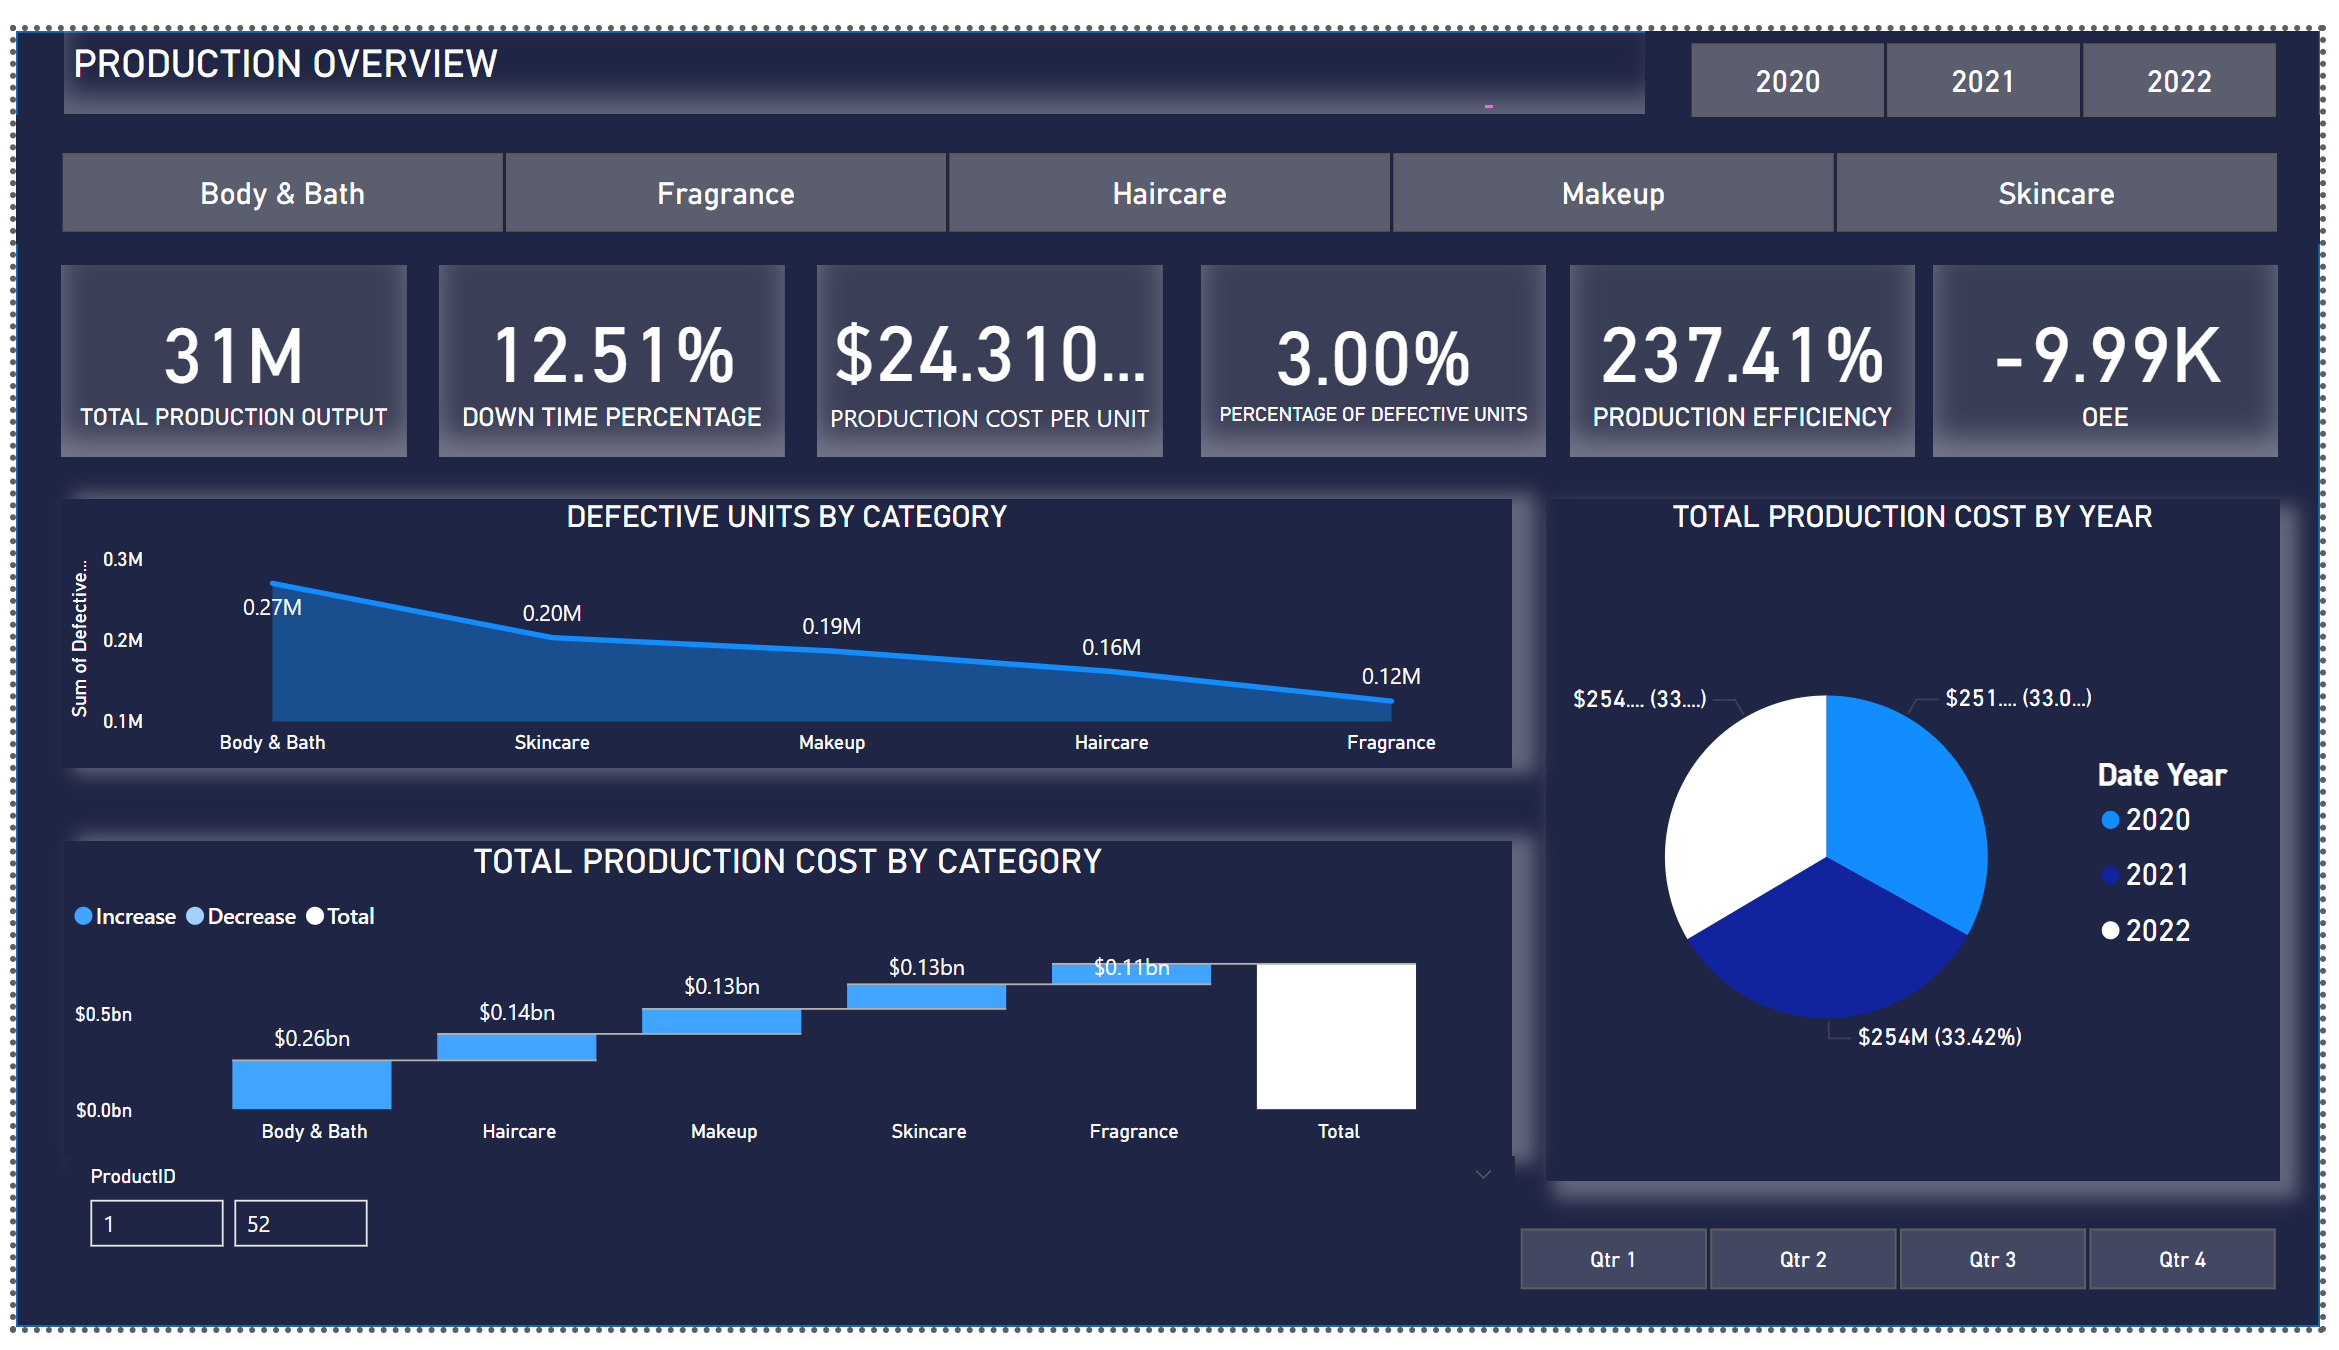

What the dashboard file says about the page in this screenshot:
{"tool":"powerbi","page":{"name":"Production Overview","canvas":[1280,720],"ordinal":0},"visuals":[{"type":"shape","box":[0,0,1280.2,720],"z":0},{"type":"card","fields":{"Values":["production_data.TOTAL PRODUCTION OUTPUT"]},"box":[25.4,129.6,192,106.6],"z":1000},{"type":"card","fields":{"Values":["production_data.Downtime_Percentage"]},"box":[235.7,129.6,192,106.6],"z":2000},{"type":"card","fields":{"Values":["production_data.Production_Cost_Per_Unit"]},"box":[444.5,129.6,192,106.6],"z":3000},{"type":"card","fields":{"Values":["production_data.Percentage_of_Defective_Products"]},"box":[658.1,129.6,191.5,106.6],"z":4000},{"type":"waterfallChart","title":"TOTAL PRODUCTION COST BY CATEGORY","fields":{"Category":["Products.Category"],"Y":["production_data.Total_Production_Cost"]},"box":[26.2,449.5,804.4,176],"z":5000},{"type":"pieChart","title":"TOTAL PRODUCTION COST BY YEAR","fields":{"Category":["production_data.Date.Variation.Date Hierarchy.Year"],"Y":["production_data.Total_Production_Cost"]},"box":[849.6,259.2,407.5,378.7],"z":6000},{"type":"slicer","fields":{"Values":["Products.Category"]},"box":[0,46.1,1280,71.8],"z":7000},{"type":"areaChart","title":"DEFECTIVE UNITS BY CATEGORY","fields":{"Category":["Products.Category"],"Y":["Sum(production_data.DefectiveUnits)"]},"box":[24.5,259.2,806.4,149.8],"z":8000},{"type":"slicer","fields":{"Values":["production_data.Date.Variation.Date Hierarchy.Quarter"]},"box":[810.7,658.1,469.4,47.5],"z":9000},{"type":"card","fields":{"Values":["production_data.OEE"]},"box":[1065.6,129.6,191.5,106.6],"z":10000},{"type":"slicer","fields":{"Values":["production_data.ProductID"]},"box":[27.6,625.5,804.4,82.9],"z":11000},{"type":"card","fields":{"Values":["production_data.PRODUCTION EFFICIENCY"]},"box":[862.6,129.6,191.5,106.6],"z":12000},{"type":"textbox","box":[25.9,0,885.6,46.1],"z":13000},{"type":"slicer","fields":{"Values":["production_data.Date.Variation.Date Hierarchy.Year"]},"box":[905.7,0,374.3,54.7],"z":14000}]}

Visuals, with their boxes in screenshot pixels (x1, y1, x2, y2), scaled from the page's 1280x720 canvas onto the 2339x1350 screenshot:
shape: select_region(0, 0, 2338, 1349)
card - production_data.TOTAL PRODUCTION OUTPUT: select_region(46, 243, 397, 443)
card - production_data.Downtime_Percentage: select_region(431, 243, 782, 443)
card - production_data.Production_Cost_Per_Unit: select_region(812, 243, 1163, 443)
card - production_data.Percentage_of_Defective_Products: select_region(1203, 243, 1553, 443)
"TOTAL PRODUCTION COST BY CATEGORY" waterfallChart: select_region(48, 843, 1518, 1173)
"TOTAL PRODUCTION COST BY YEAR" pieChart: select_region(1553, 486, 2297, 1196)
slicer - Products.Category: select_region(0, 86, 2338, 221)
"DEFECTIVE UNITS BY CATEGORY" areaChart: select_region(45, 486, 1518, 767)
slicer - production_data.Date.Variation.Date Hierarchy.Quarter: select_region(1481, 1234, 2338, 1323)
card - production_data.OEE: select_region(1947, 243, 2297, 443)
slicer - production_data.ProductID: select_region(50, 1173, 1520, 1328)
card - production_data.PRODUCTION EFFICIENCY: select_region(1576, 243, 1926, 443)
textbox: select_region(47, 0, 1666, 86)
slicer - production_data.Date.Variation.Date Hierarchy.Year: select_region(1655, 0, 2338, 103)
